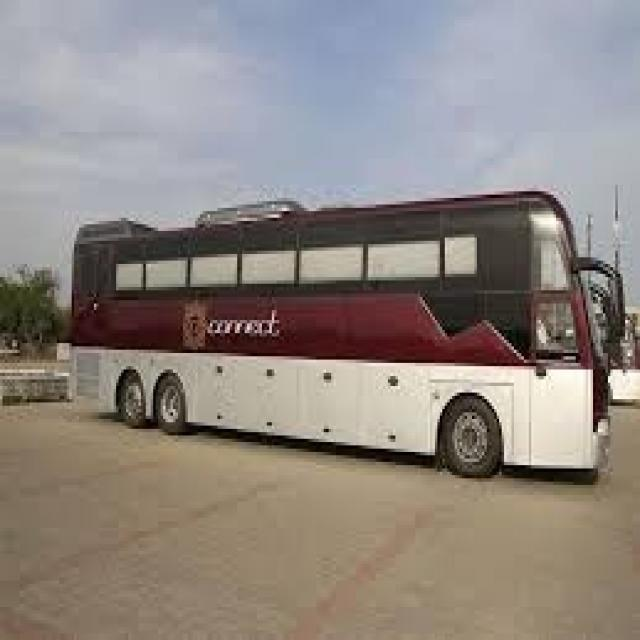bus: (47, 174, 636, 507)
